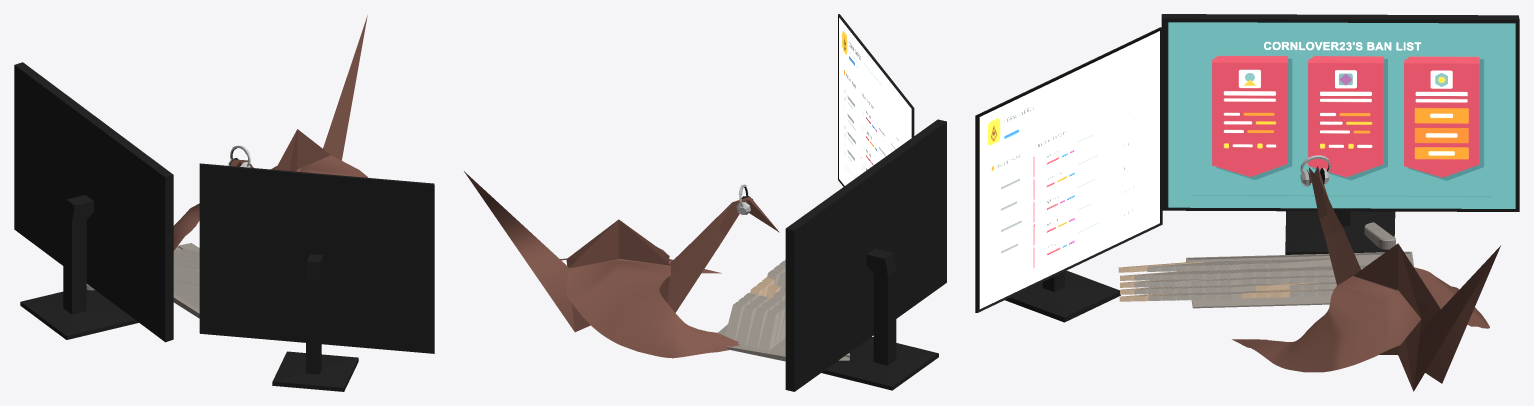
The model's file is crane-on-league.glb.
3 views of the same model, side by side, from view 1: azimuth 30°, elevation 25°; view 2: azimuth 150°, elevation 25°; view 3: azimuth 270°, elevation 25° (orthographic). The views are drawn at different scales.
Visible parts, largest first — view 1: Monitor.002, Monitor, Crane, Cube.003; view 2: Monitor, Crane, Monitor.002, Cube.003, Keycap.063, Keycap.064, Keycap.065, Keycap.066; view 3: Monitor, Monitor.002, Crane, Cube.003, Mouse.
Part boxes in pixels (x1,y1,x2,y2): Monitor.002: (199, 163, 434, 391); Monitor: (14, 62, 173, 342); Crane: (173, 15, 368, 250); Cube.003: (173, 243, 199, 318); Monitor: (785, 119, 946, 391); Crane: (464, 171, 779, 358); Monitor.002: (838, 14, 914, 186); Cube.003: (718, 324, 785, 361); Keycap.063: (758, 309, 779, 350); Keycap.064: (747, 307, 768, 348); Keycap.065: (736, 304, 756, 345); Keycap.066: (725, 301, 745, 340); Monitor: (1161, 14, 1519, 254); Monitor.002: (975, 27, 1162, 322); Crane: (1232, 166, 1500, 391); Cube.003: (1186, 251, 1413, 308); Mouse: (1364, 222, 1395, 249).
Bounding box in the file's own units: 4.89 × 2.33 × 5.02.
8 materials, 2 textured.
